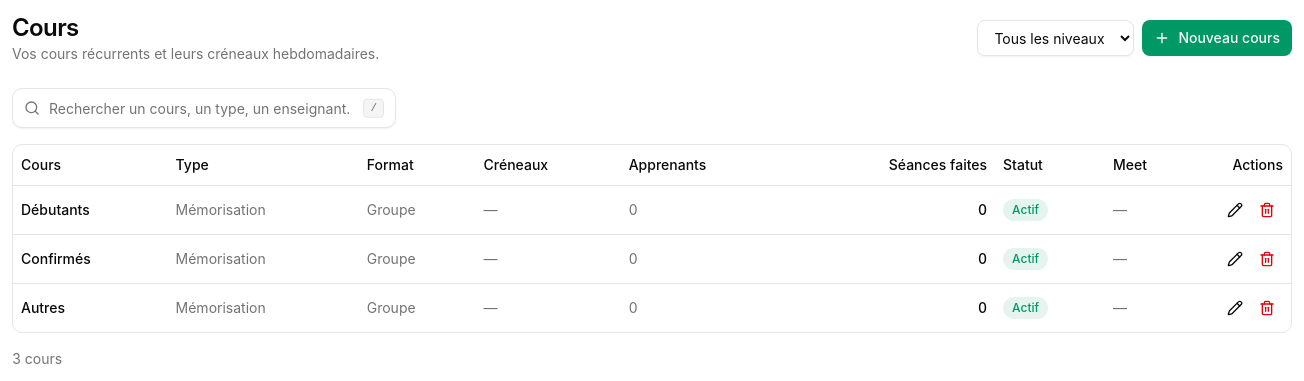
Test: CoursPage — filtre par niveau › explique un filtre sans résultat au lieu de laisser la page vide
Select "Niveau 3" in the dropdown named "Filtrer par niveau" at (1056, 38), box [977, 20, 1134, 56]
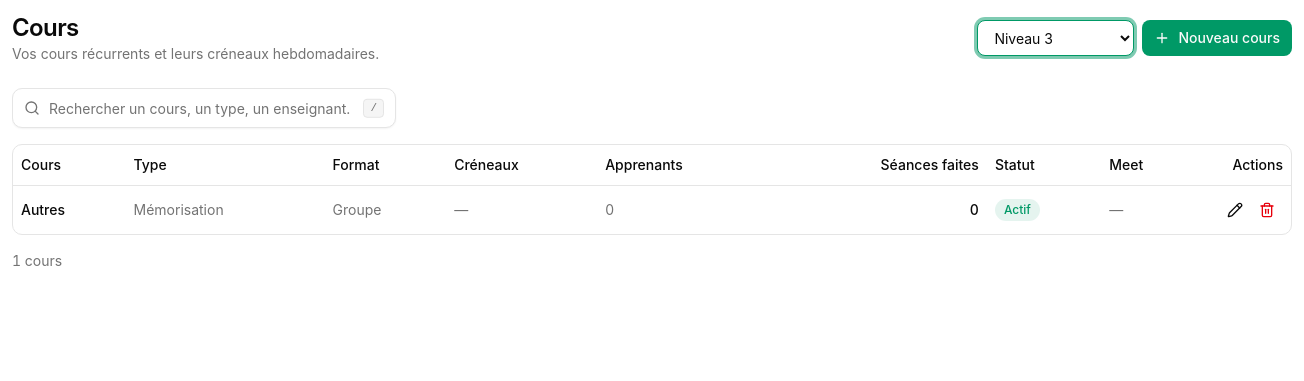
Expected: the button "Autres" is shown, [21, 200, 65, 220]
Expected: the button "Débutants" is gone
